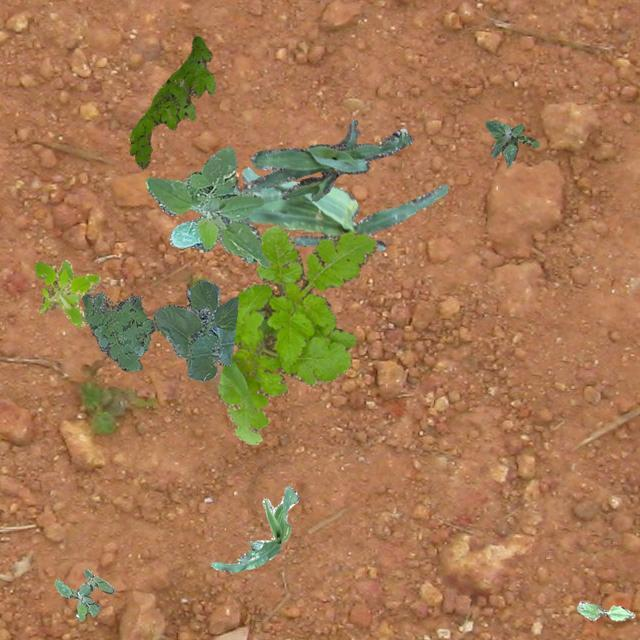crop: (231, 166, 447, 250), (144, 146, 268, 266), (242, 118, 412, 200), (152, 278, 238, 381), (210, 484, 298, 572), (576, 600, 634, 620)
weed: (216, 224, 376, 443), (128, 36, 214, 168), (80, 290, 158, 370), (32, 258, 100, 326), (54, 568, 114, 620), (484, 120, 524, 168), (491, 132, 539, 146)
